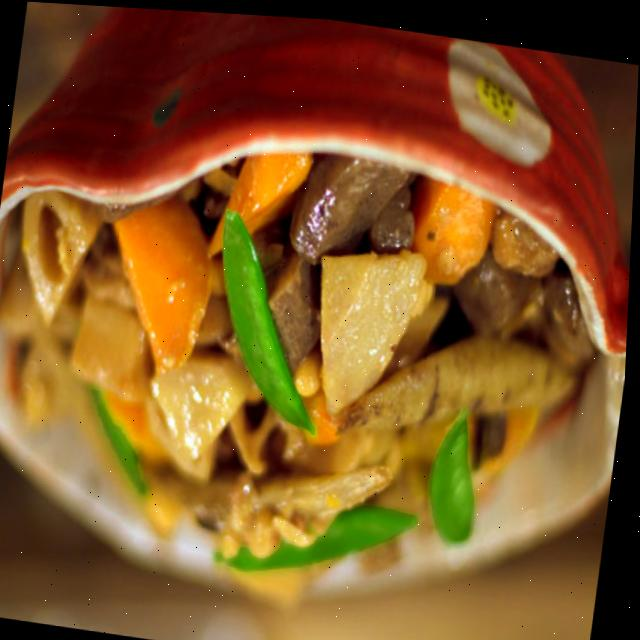鸡肉料理 含炸鸡: (0, 74, 637, 640)
